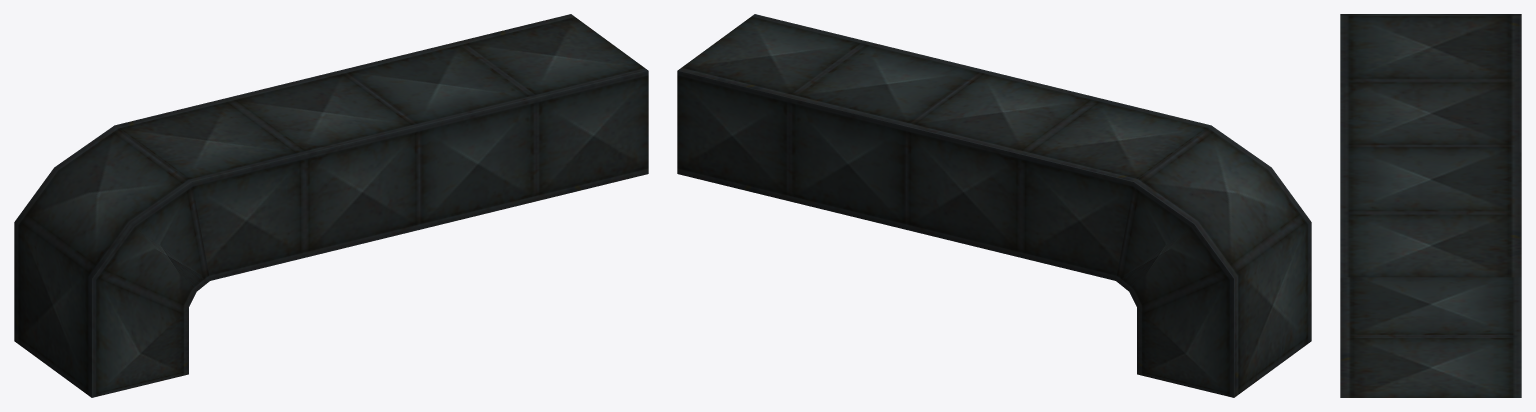
The model's file is Stage-gongchang-tongfeng.FBX.
3 views of the same model, side by side, from view 1: azimuth 30°, elevation 25°; view 2: azimuth 150°, elevation 25°; view 3: azimuth 270°, elevation 25° (orthographic). The views are drawn at different scales.
Visible parts, largest first — view 1: Object26; view 2: Object26; view 3: Object26.
Boxes of the visible parts, box(x1,y1,x2,y2) form: Object26: box(14, 14, 648, 397); Object26: box(677, 14, 1311, 397); Object26: box(1340, 14, 1521, 397).
Size of the model in its own units: 10.71 by 2.58 by 3.52.
